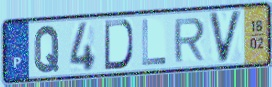4: (68, 19, 97, 73)
D: (102, 18, 135, 72)
L: (140, 18, 168, 67)
Q: (32, 24, 61, 75)
R: (172, 16, 207, 65)
V: (206, 9, 244, 66)
